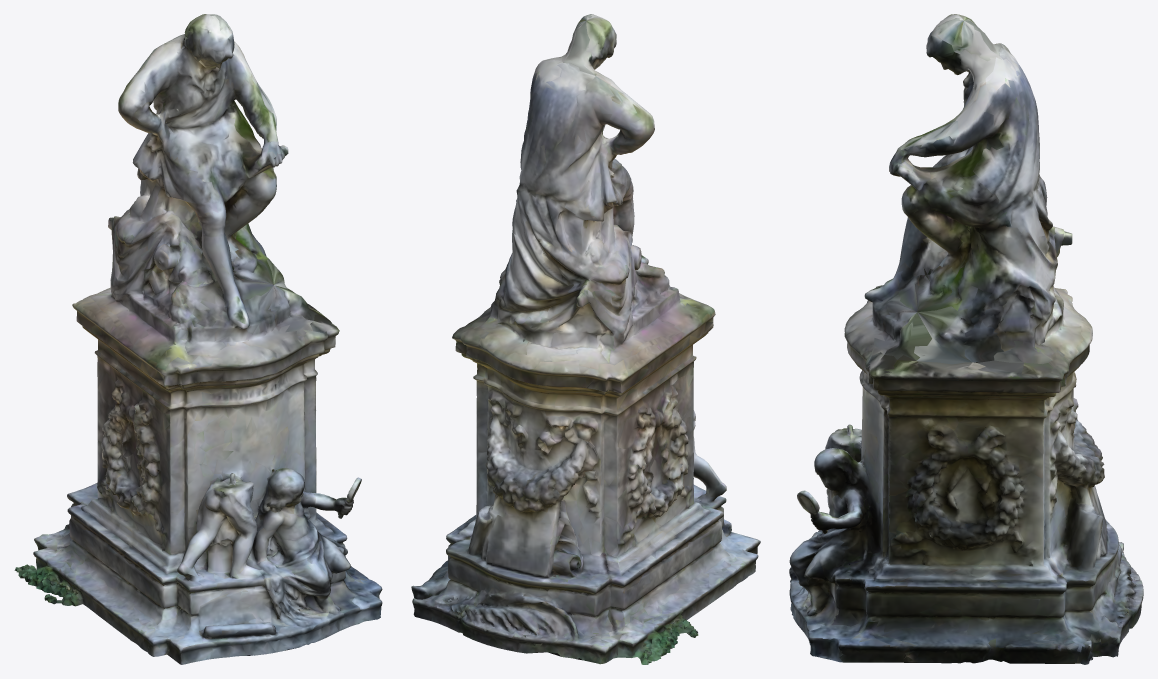
The picture shows the model from 3 angles, left to right: view 1: azimuth 30°, elevation 25°; view 2: azimuth 150°, elevation 25°; view 3: azimuth 270°, elevation 25°; orthographic projection. The views are drawn at different scales.
Visible parts, largest first — view 1: 512.25k; view 2: 512.25k; view 3: 512.25k.
Part boxes in pixels (x1,y1,x2,y2): 512.25k: [14, 14, 382, 664]; 512.25k: [411, 14, 760, 664]; 512.25k: [789, 14, 1143, 664].
Size of the model in its own units: 2.51 by 5.46 by 2.98.
Materials: 2 (1 with a texture image).
